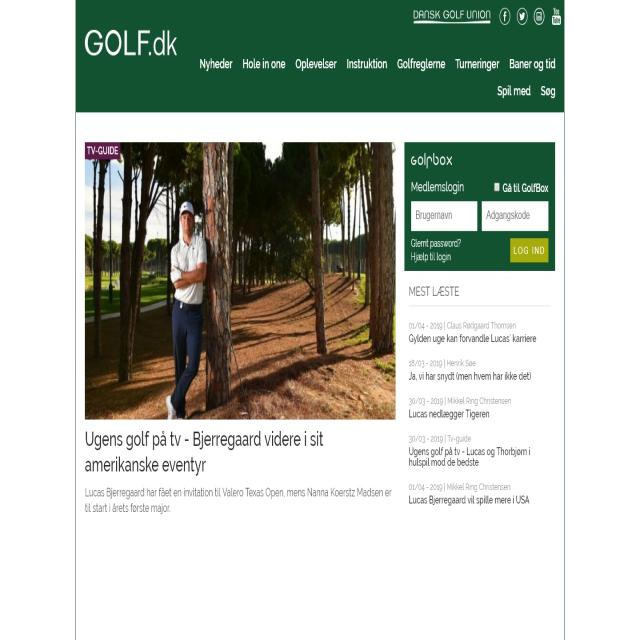button: (392, 50, 446, 78), (506, 50, 560, 76), (241, 51, 287, 76), (452, 51, 498, 76), (345, 51, 389, 77), (293, 52, 339, 76), (511, 238, 548, 264), (197, 52, 236, 74), (496, 82, 534, 104), (539, 82, 562, 105), (549, 6, 564, 27), (515, 6, 528, 26), (499, 6, 511, 27), (533, 6, 545, 26), (492, 181, 502, 194)
field: (482, 200, 549, 230), (412, 201, 477, 231)
heading: (83, 430, 329, 476), (85, 26, 179, 66), (410, 148, 456, 169)
image: (86, 141, 395, 420)
label: (485, 204, 531, 225), (415, 207, 453, 223), (504, 182, 549, 194)
link: (410, 236, 465, 250), (409, 251, 456, 264)
text: (84, 486, 394, 514), (407, 434, 535, 476), (408, 316, 540, 348), (407, 356, 539, 384), (408, 395, 534, 423), (406, 481, 536, 508), (413, 5, 491, 26), (411, 178, 465, 194)
